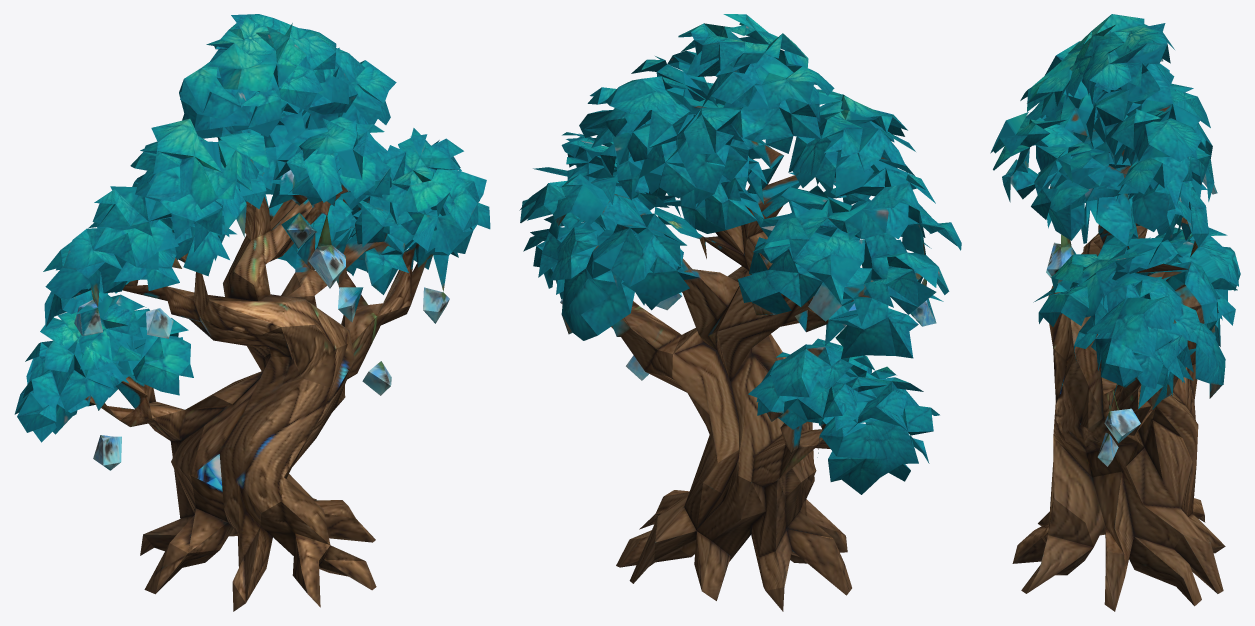
File: tree_glow.glb
The picture shows the model from 3 angles, left to right: view 1: azimuth 30°, elevation 25°; view 2: azimuth 150°, elevation 25°; view 3: azimuth 270°, elevation 25°; orthographic projection.
Size of the model in its own units: 1.61 by 1.9 by 0.799.
Materials: 1 (1 with a texture image).
